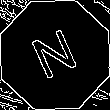N_SE: (26, 23, 84, 87)
